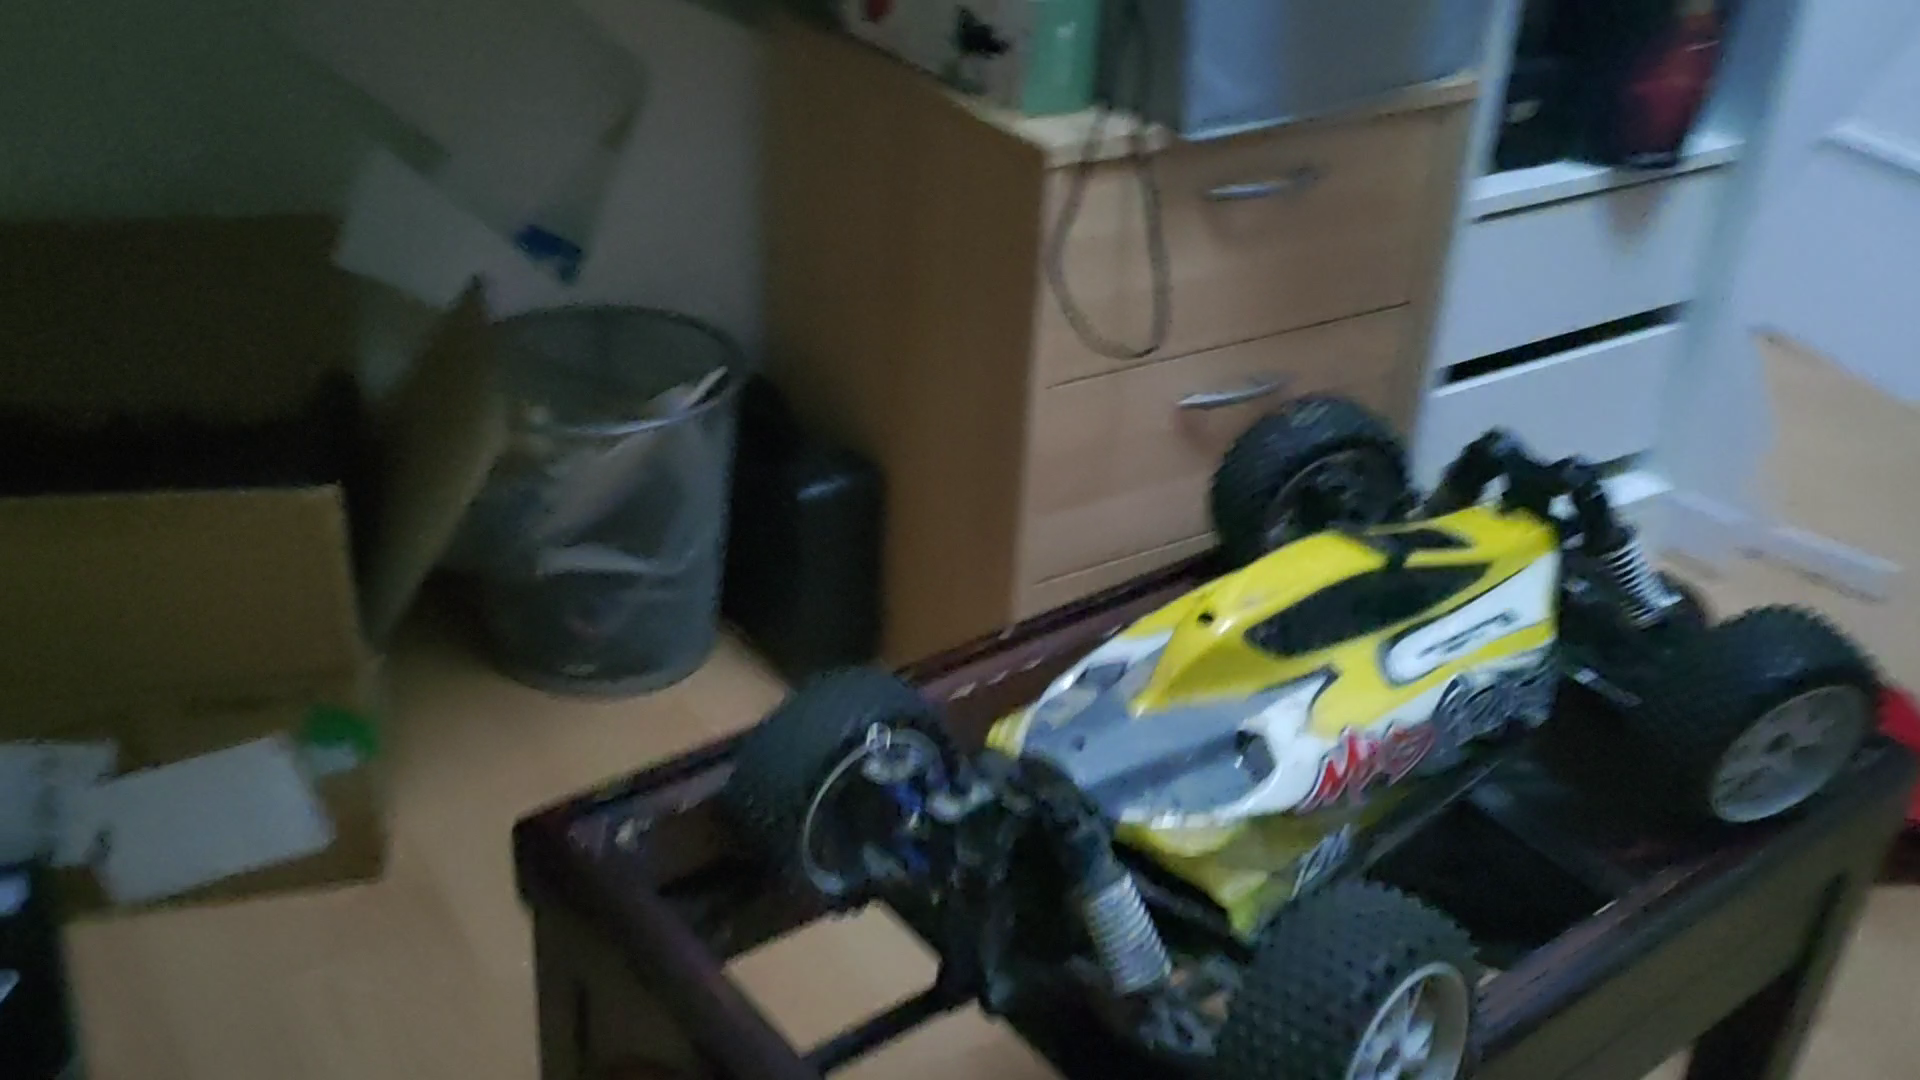buggy: (723, 396, 1884, 1080)
